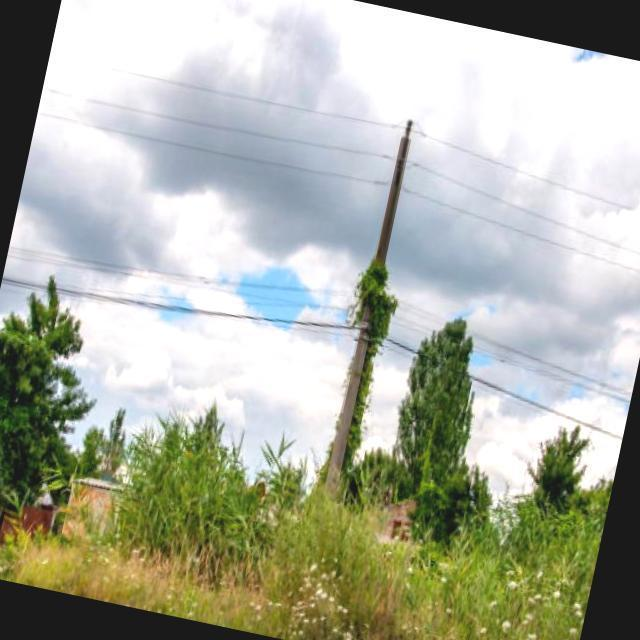critical vegetation: (315, 227, 414, 480)
